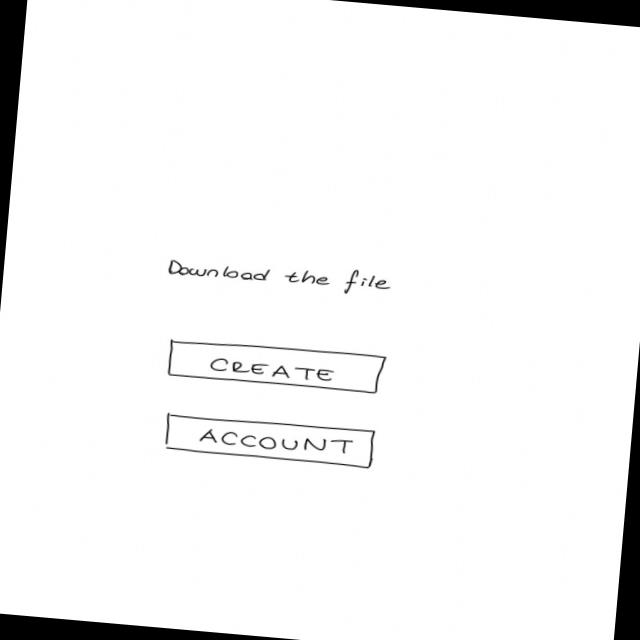button: (166, 335, 390, 398), (162, 410, 381, 470)
label: (165, 252, 397, 302)
